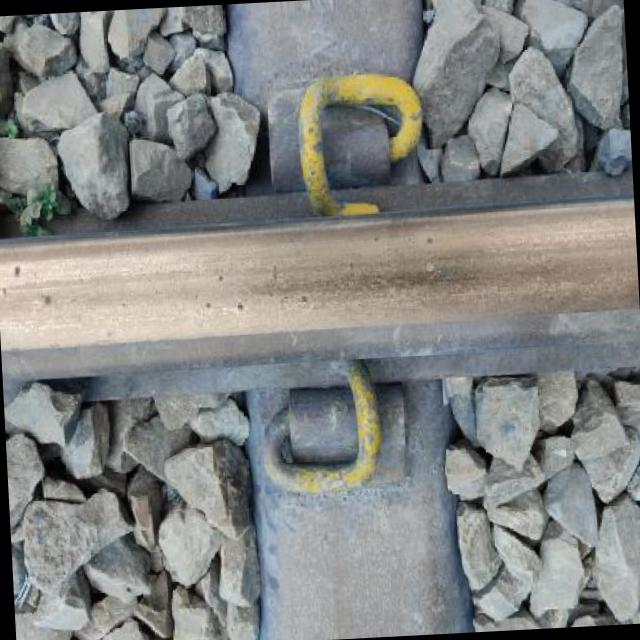non-defective: (0, 53, 610, 565)
